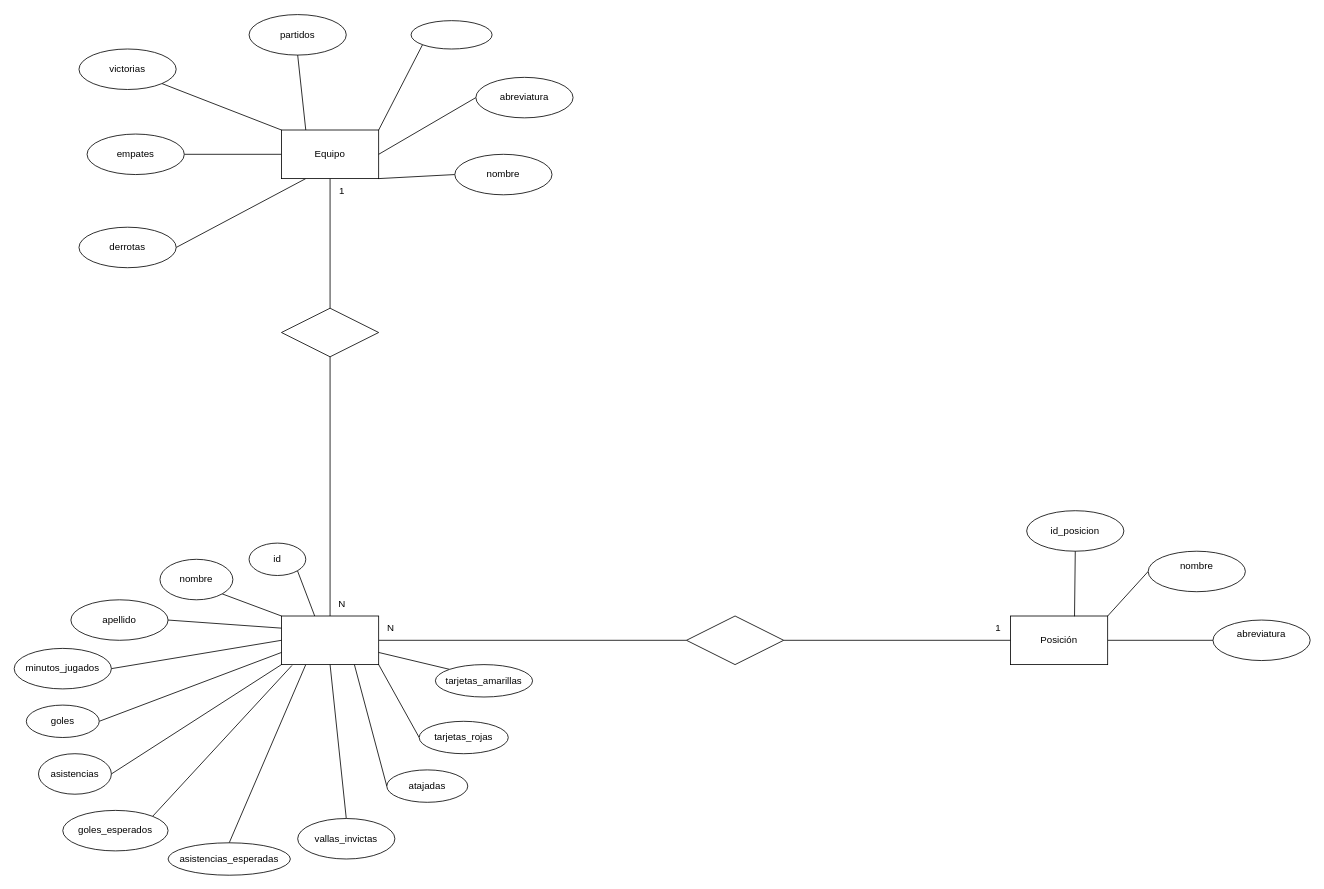
This 1324x889 diagram has some shape labels left out. The box of each missing label's shape, as (x1, y1, x2, y2) in pixels:
id_equipo: (410, 20, 492, 49)
juega en: (686, 615, 784, 665)
jugador: (281, 615, 379, 665)
tiene: (281, 307, 379, 357)
